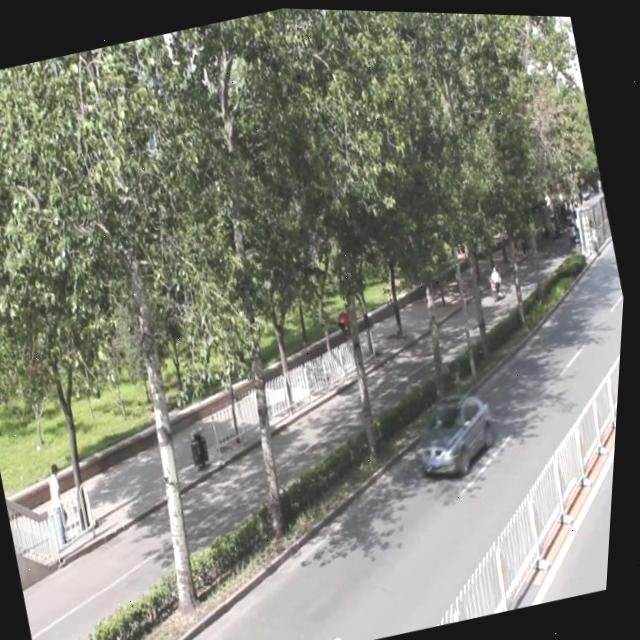car: (405, 380, 507, 483)
